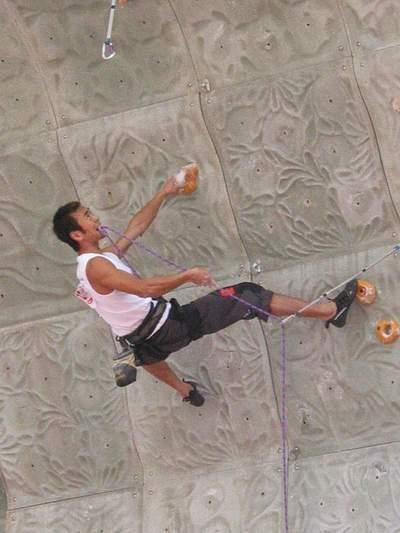person: (52, 163, 359, 408)
